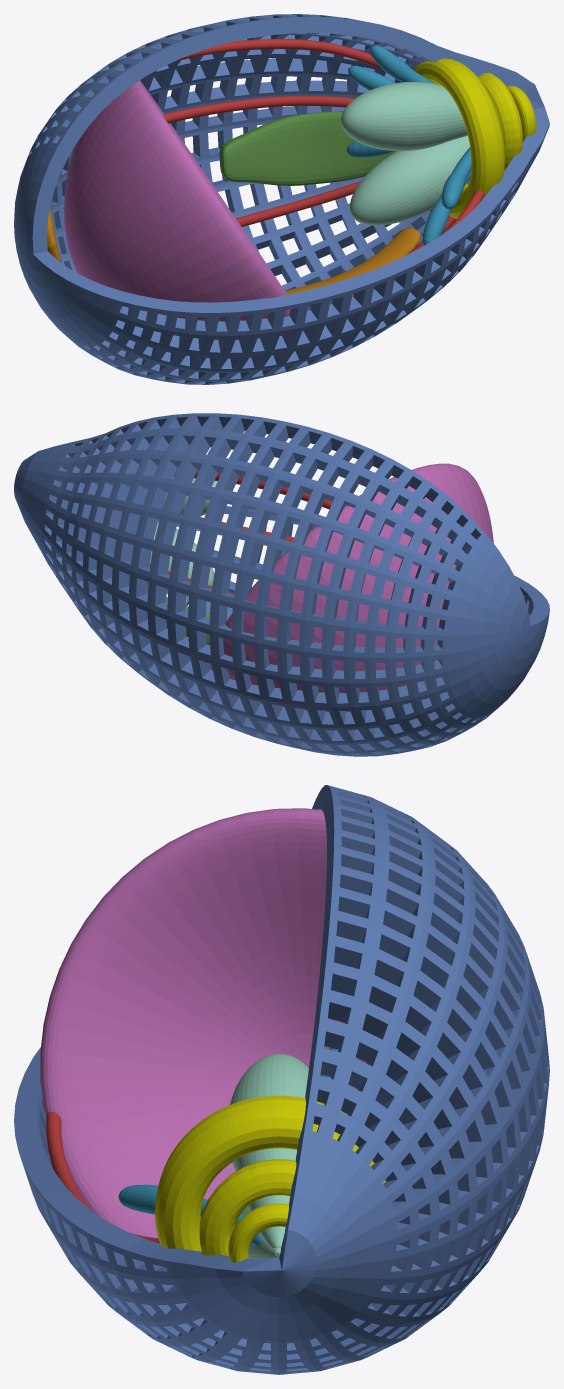
File: 3DPX-000005.glb
3 renders of one model, top to bottom at view 1: azimuth 30°, elevation 25°; view 2: azimuth 150°, elevation 25°; view 3: azimuth 270°, elevation 25°, orthographic. The views are drawn at different scales.
Visible parts, largest first — view 1: plasmodium_0-pymesh; view 2: plasmodium_0-pymesh; view 3: plasmodium_0-pymesh.
Part boxes in pixels (<box>): plasmodium_0-pymesh: <box>14,14,549,384</box>; plasmodium_0-pymesh: <box>14,413,549,756</box>; plasmodium_0-pymesh: <box>14,785,549,1374</box>.
Bounding box in the file's own units: 8.73 × 5.23 × 5.23.
